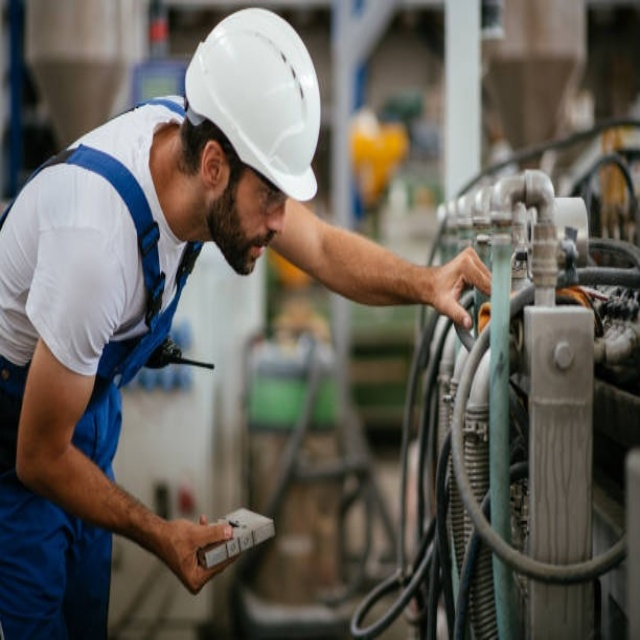Gafas: (249, 168, 288, 216)
Sin_guantes: (157, 505, 236, 593), (427, 237, 490, 328)
Sin_mascara: (229, 231, 275, 275)
